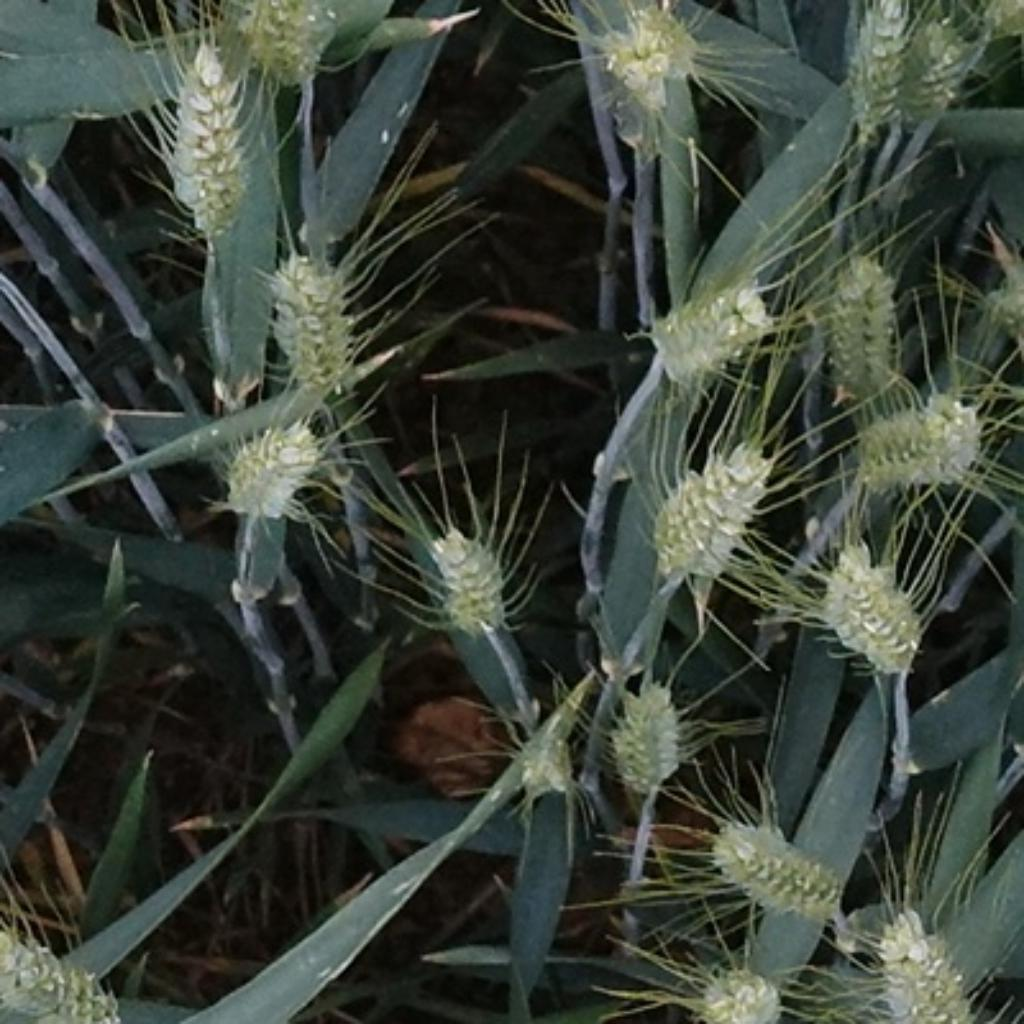0-0: (145, 30, 263, 243), (629, 430, 778, 596), (801, 535, 942, 682), (629, 258, 775, 399), (3, 880, 144, 1022), (701, 803, 856, 930), (255, 243, 367, 407), (839, 381, 990, 491), (808, 235, 906, 394), (862, 901, 988, 1024), (215, 409, 330, 533), (590, 1, 714, 111), (832, 2, 931, 133), (415, 520, 520, 643), (599, 665, 696, 796), (209, 2, 348, 84), (907, 20, 981, 142), (504, 716, 586, 811), (686, 949, 788, 1024)
